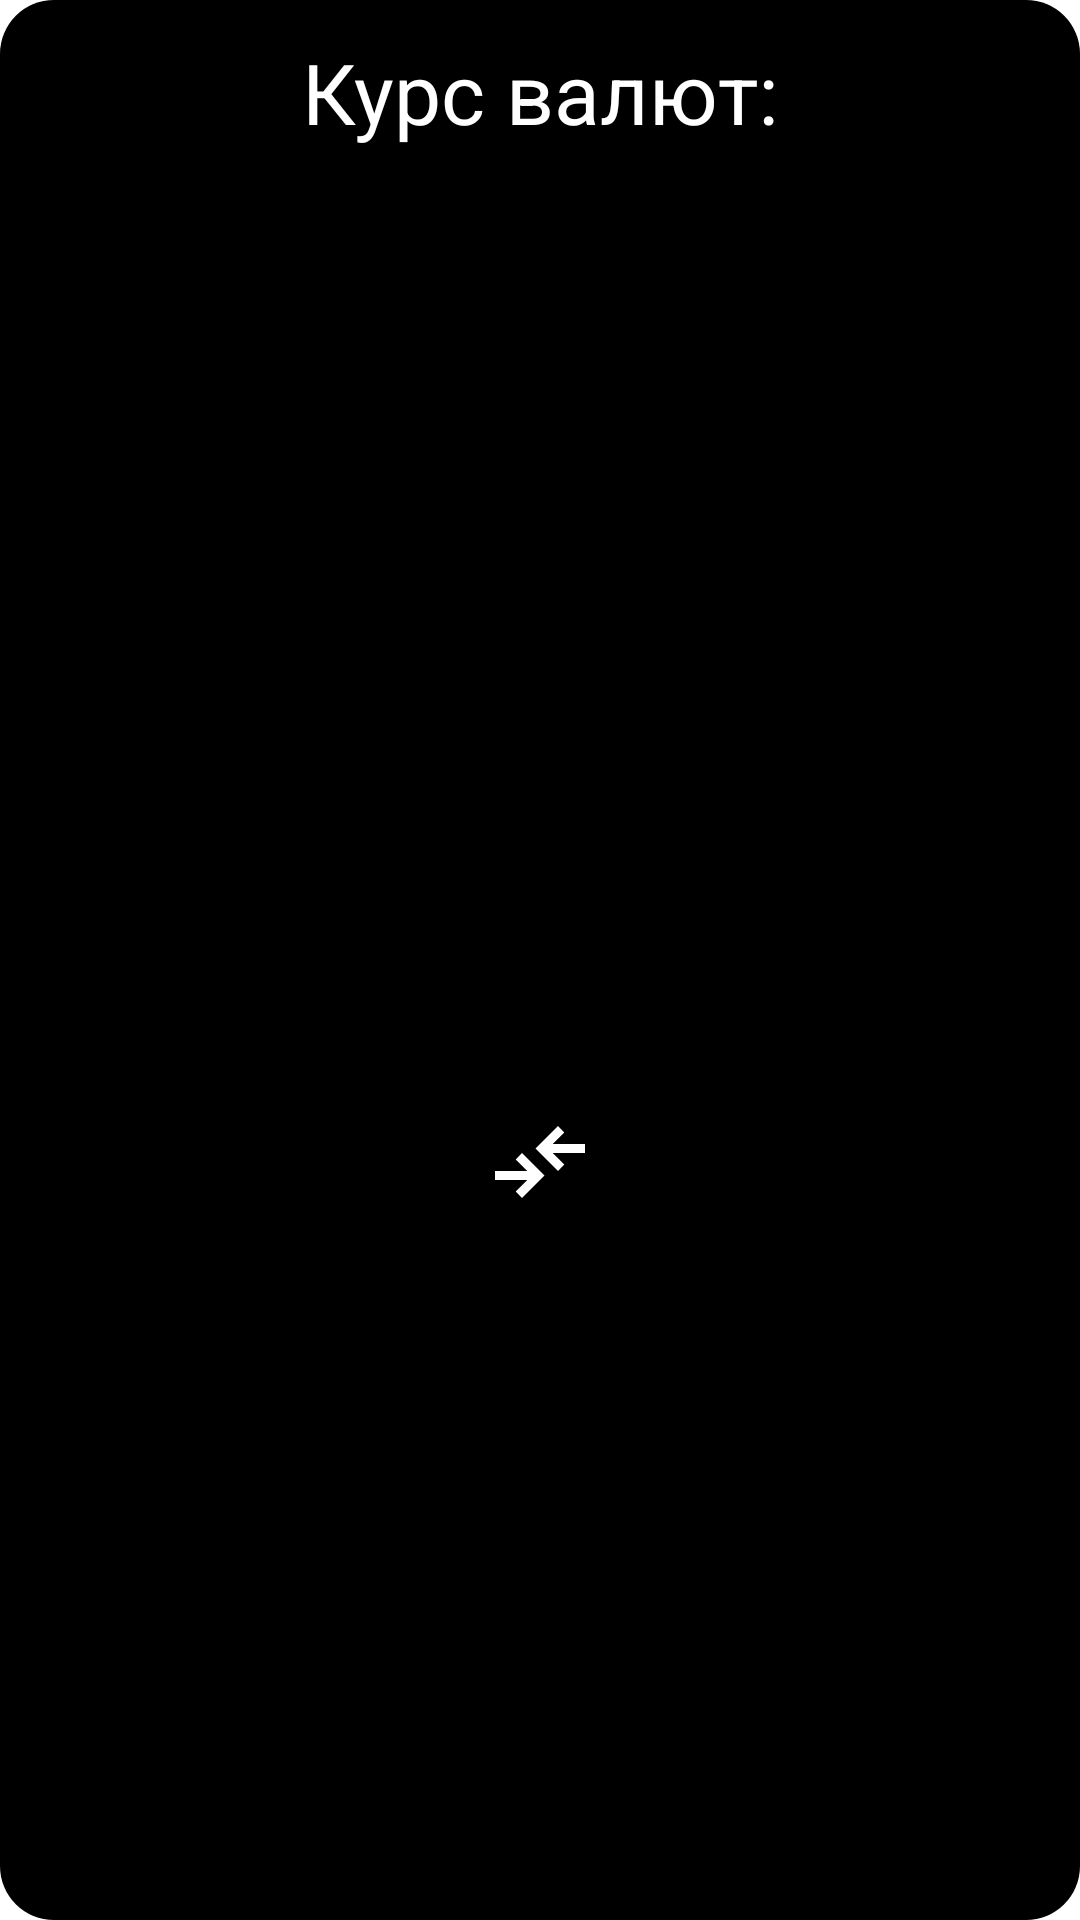

Named icons in this screenshot (1080 x 1920) and their centers, point (x, y):
compare arrows: point (540, 1162)
